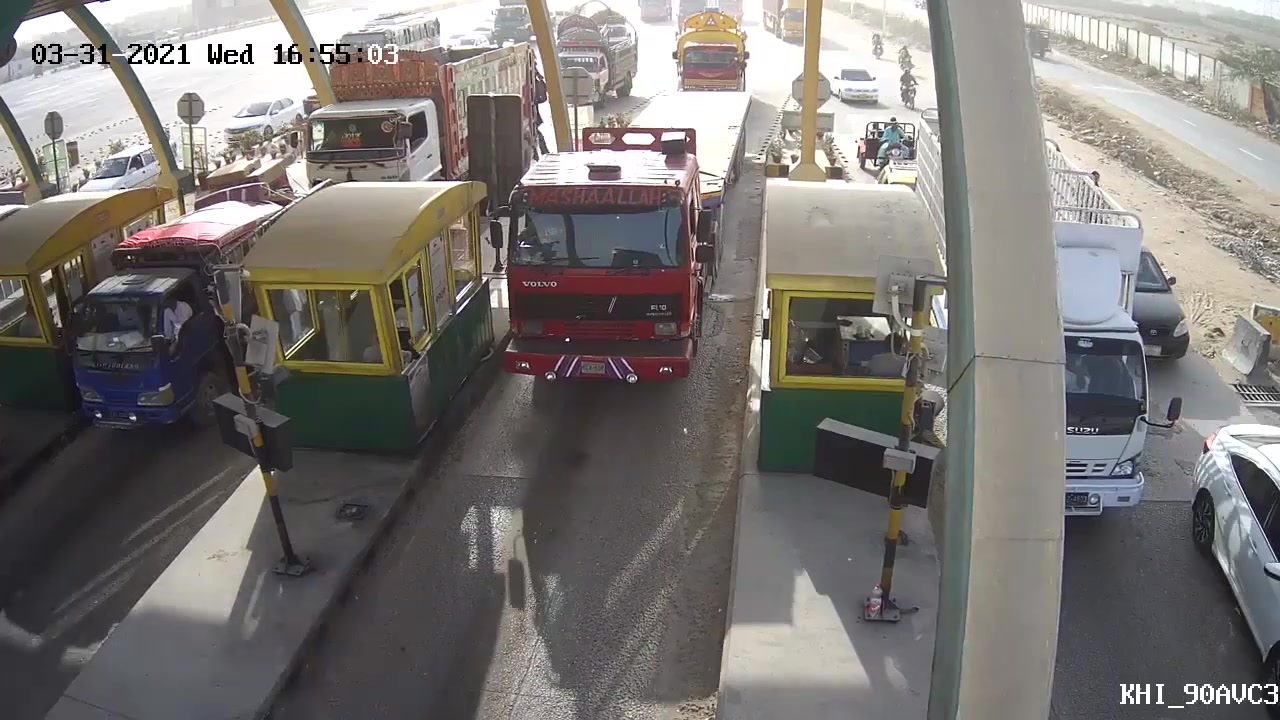F5: (482, 88, 751, 400)
